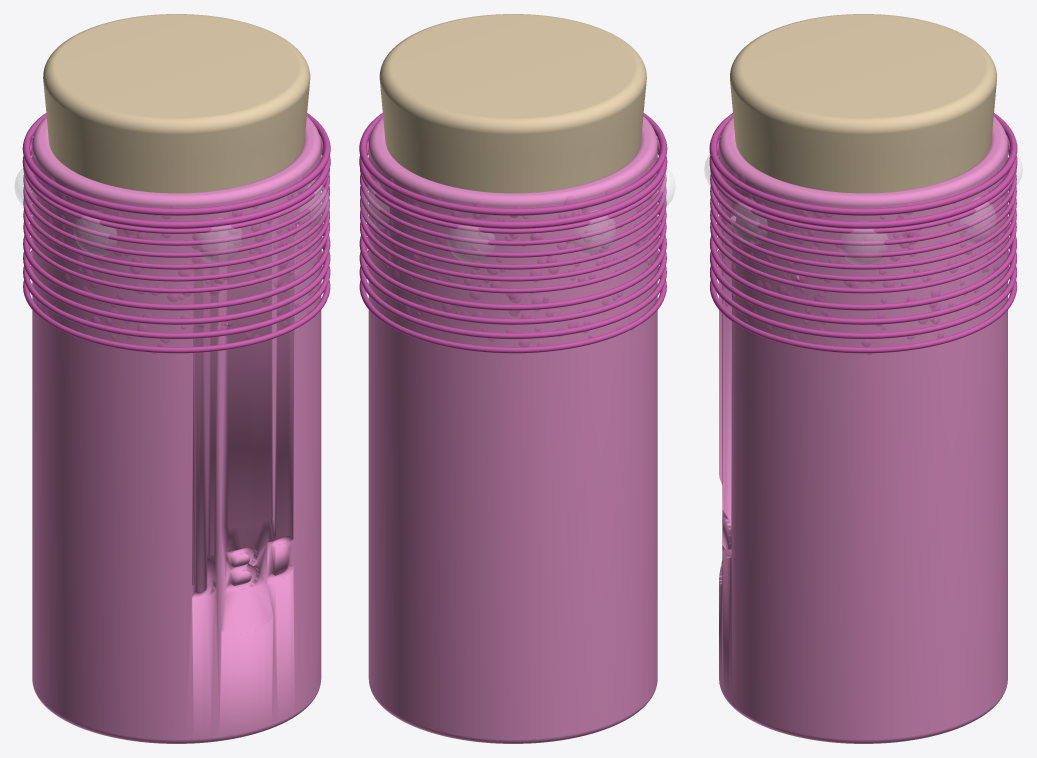
File: jar_magenta_gold.glb
3 views of the same model, side by side, from view 1: azimuth 30°, elevation 25°; view 2: azimuth 150°, elevation 25°; view 3: azimuth 270°, elevation 25° (orthographic).
Visible parts, largest first — view 1: body, cork, lines, frit, marbles; view 2: body, cork, lines, frit, marbles; view 3: body, cork, lines, frit, marbles.
Part boxes in pixels (x1,y1,x2,y2): body: (32, 116, 321, 743); cork: (43, 14, 310, 251); lines: (22, 113, 330, 353); frit: (29, 133, 322, 353); marbles: (14, 168, 329, 262); body: (368, 116, 657, 743); cork: (379, 14, 646, 250); lines: (359, 113, 667, 353); frit: (366, 133, 659, 346); marbles: (360, 168, 675, 262); body: (719, 116, 1007, 743); cork: (730, 14, 996, 193); lines: (709, 113, 1017, 353); frit: (717, 125, 1009, 354); marbles: (704, 154, 1022, 265).
Bounding box in the file's own units: 0.0483 × 0.104 × 0.0486.
